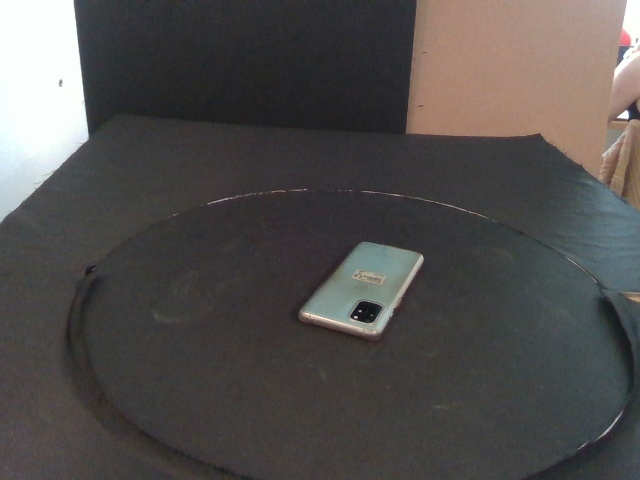phone: (297, 240, 426, 341)
